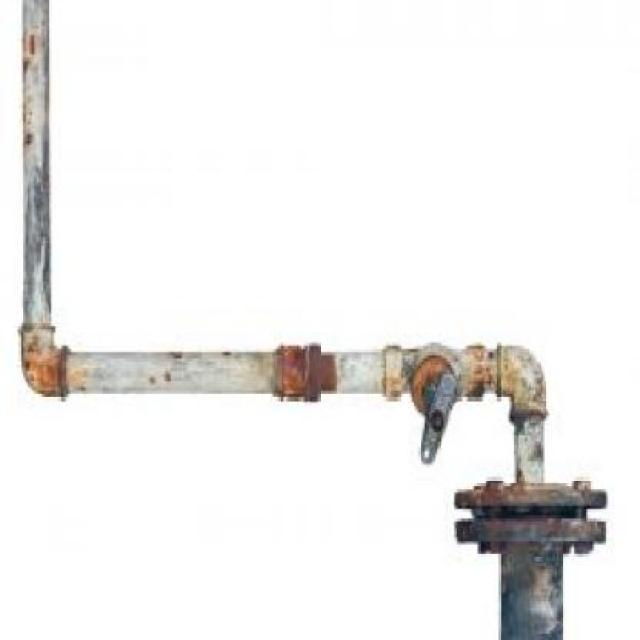corrosion: (450, 406, 608, 640), (33, 337, 562, 406), (21, 3, 54, 409)
